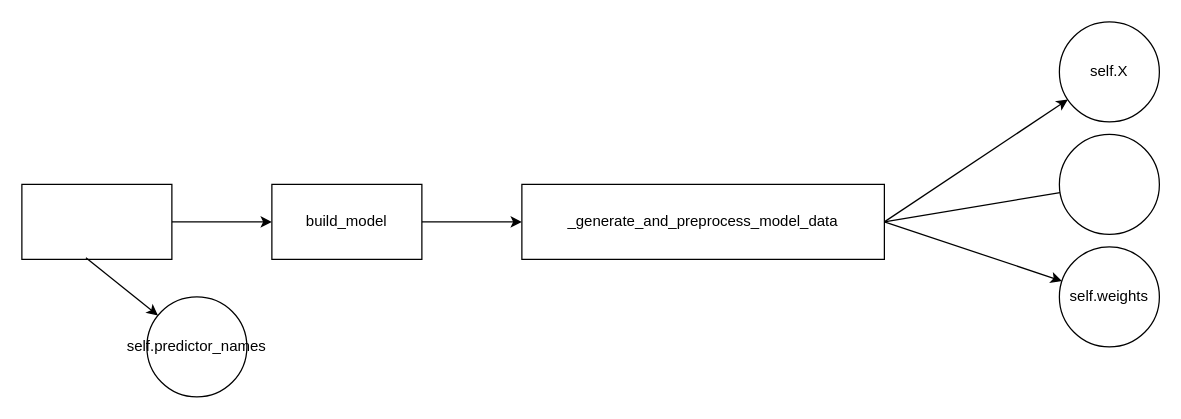
Some shapes in this 1181 by 419 pixel diagram are drawn without their labels. The shapes that lost their labels are listed below. From the top down, each one's centre as x and y in pixels, then its label:
At pixel 1108 183: "self.Y".
At pixel 96 221: "fit".
